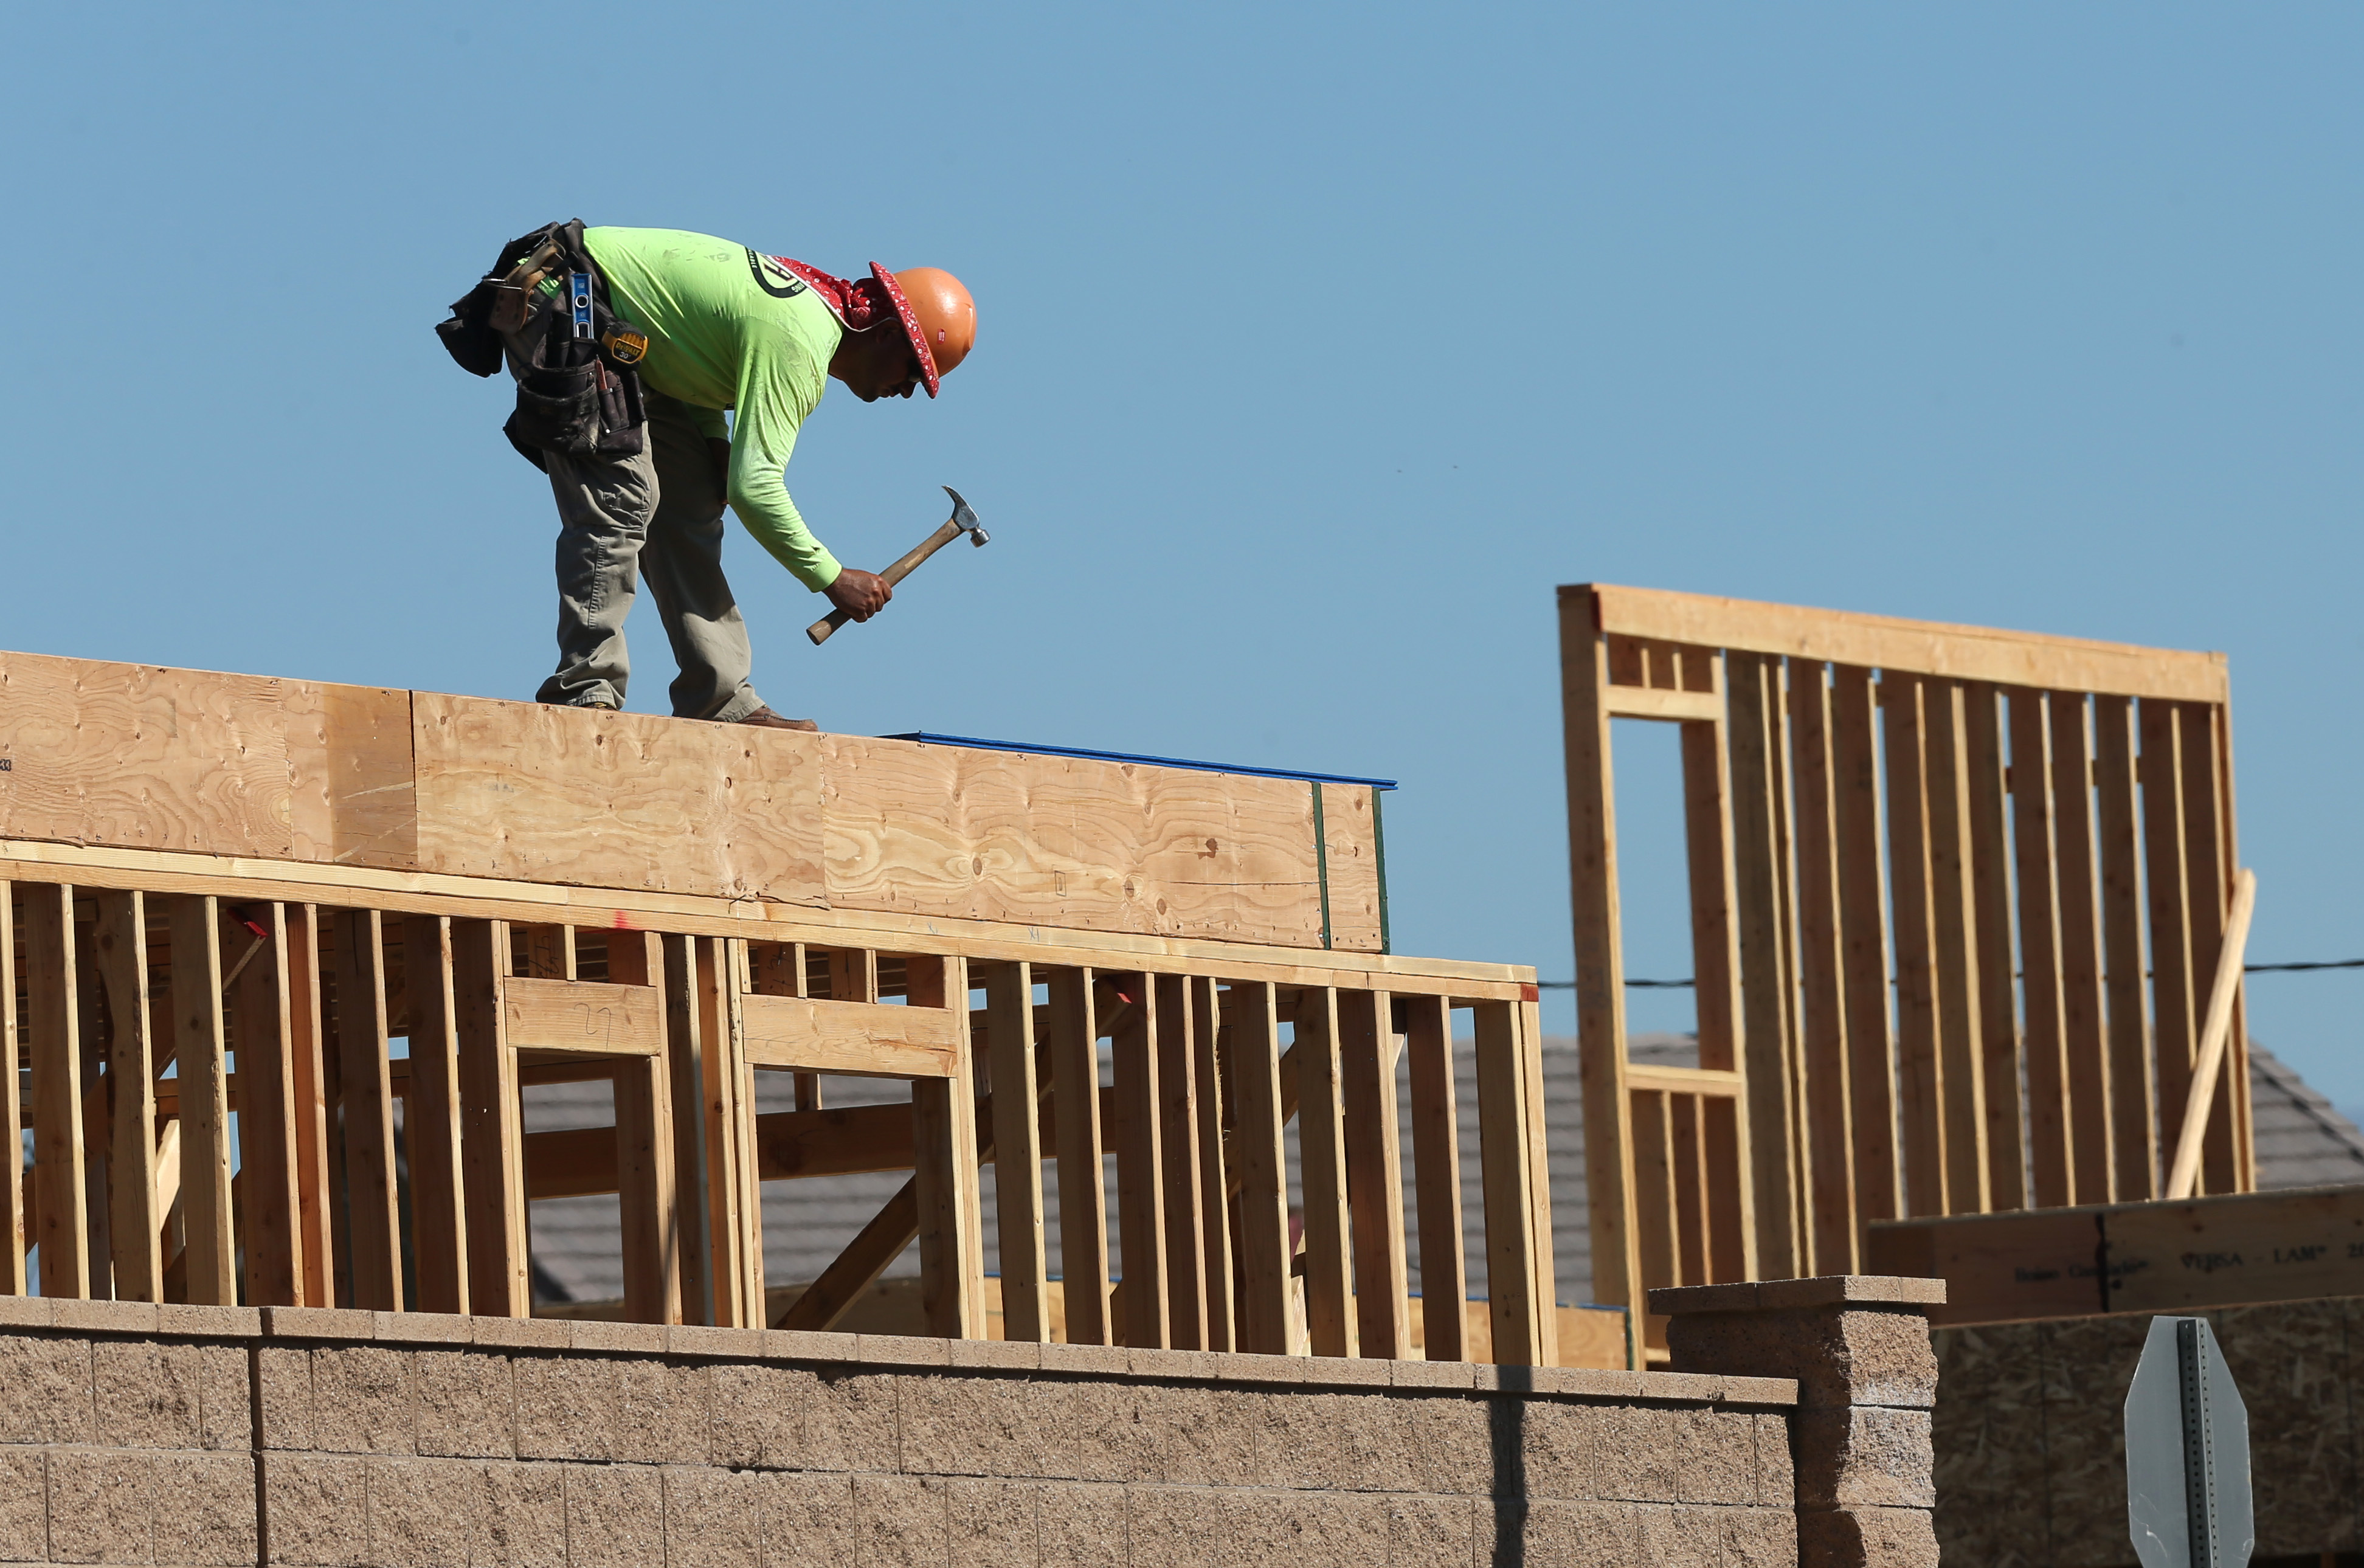hat: (859, 242, 1008, 397)
